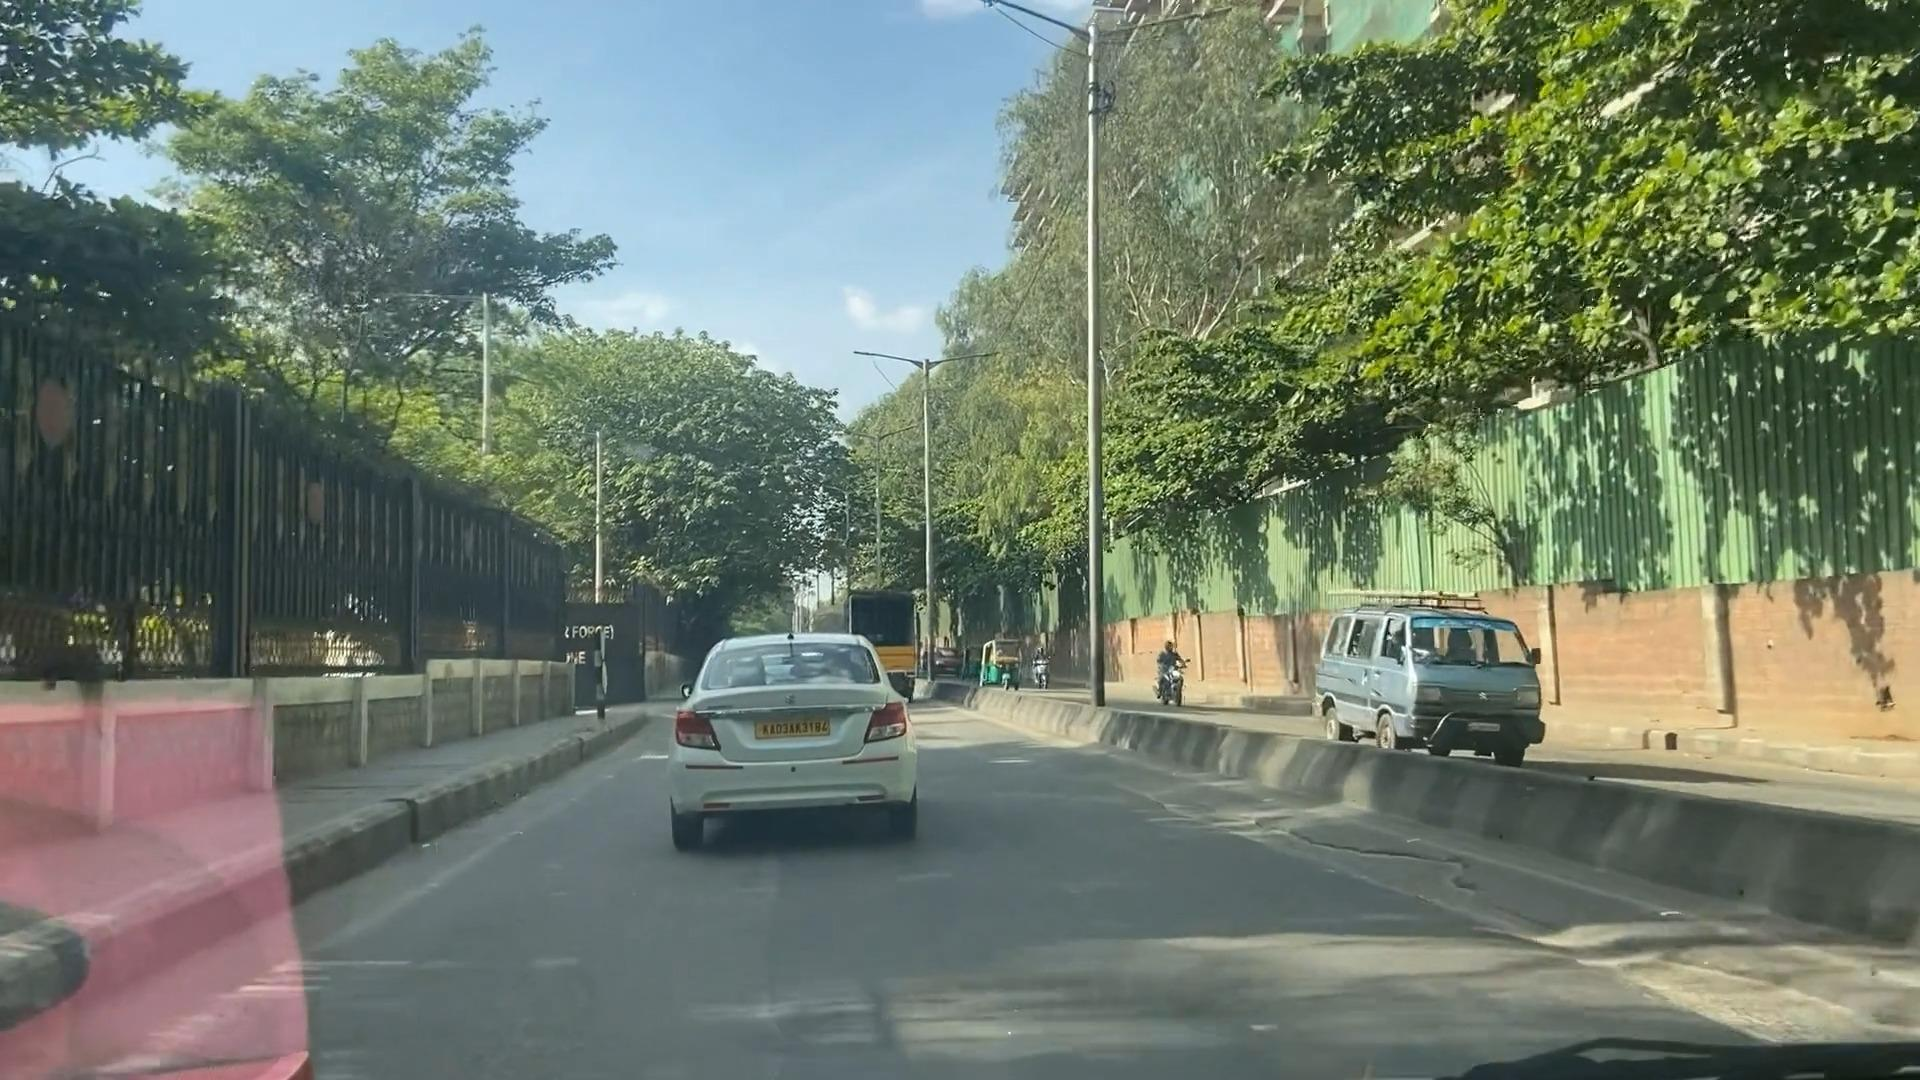HMV: (836, 554, 945, 700)
RoadDamages: (1410, 845, 1862, 1039), (1159, 790, 1403, 923)
